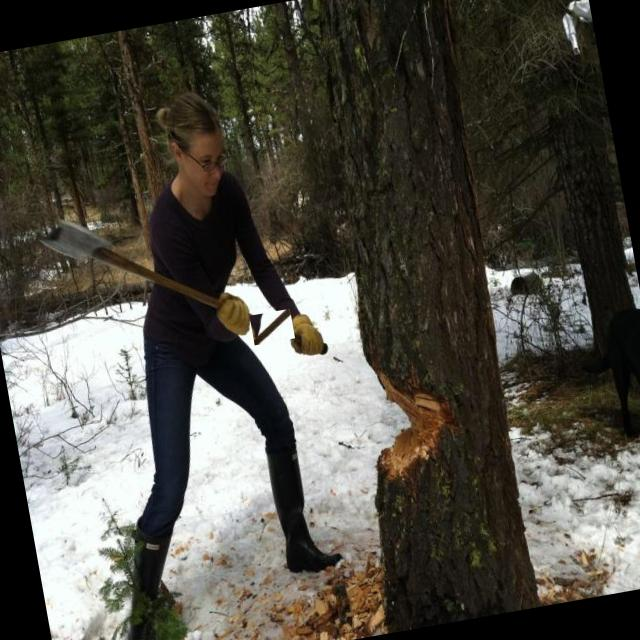Axe: (41, 221, 219, 307), (254, 308, 290, 344)
